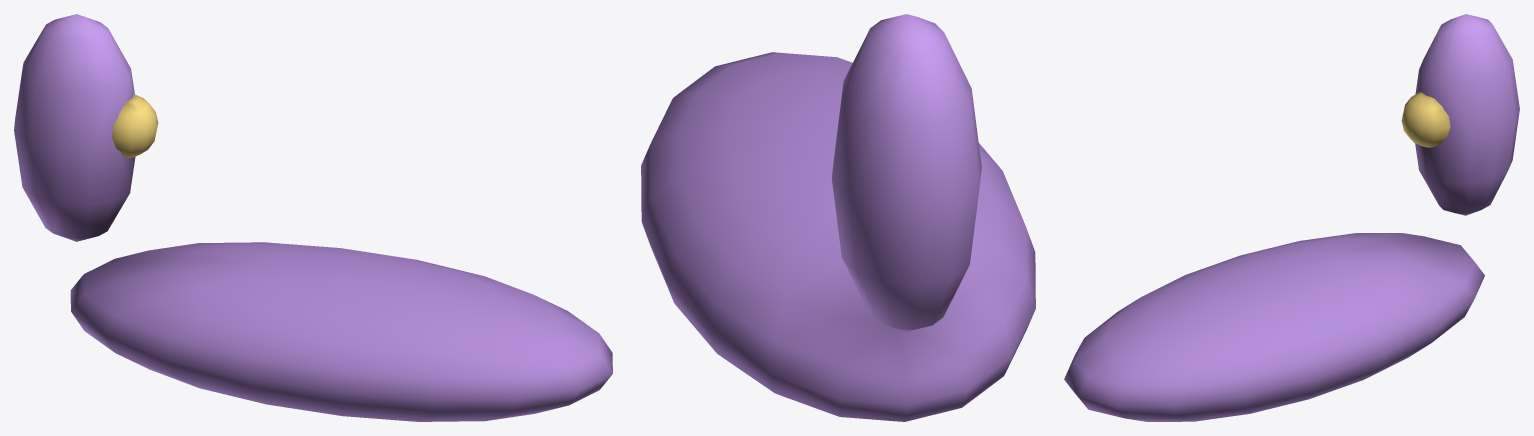
File: wizard_feet.fbx
3 views of the same model, side by side, from view 1: azimuth 30°, elevation 25°; view 2: azimuth 150°, elevation 25°; view 3: azimuth 270°, elevation 25° (orthographic). The views are drawn at different scales.
Parts seen in each view (by area): view 1: wizard_feet; view 2: wizard_feet; view 3: wizard_feet.
Part boxes in pixels (x1,y1,x2,y2): wizard_feet: (14, 14, 612, 421); wizard_feet: (641, 14, 1035, 421); wizard_feet: (1064, 14, 1519, 421).
Size of the model in its own units: 0.8212 by 0.68 by 0.9421.
